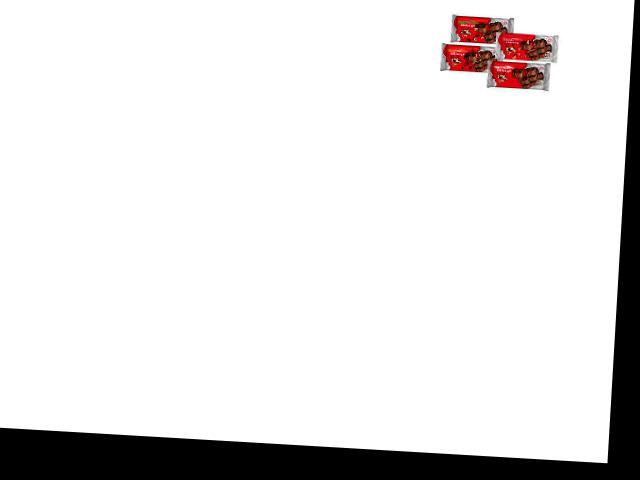chocolate: (444, 10, 518, 51)
